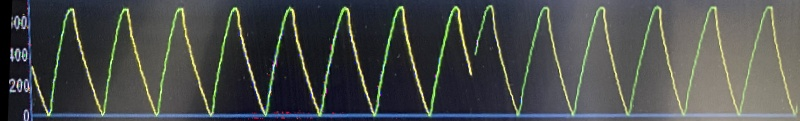normal_volume: (42, 0, 430, 120), (515, 0, 800, 121)
